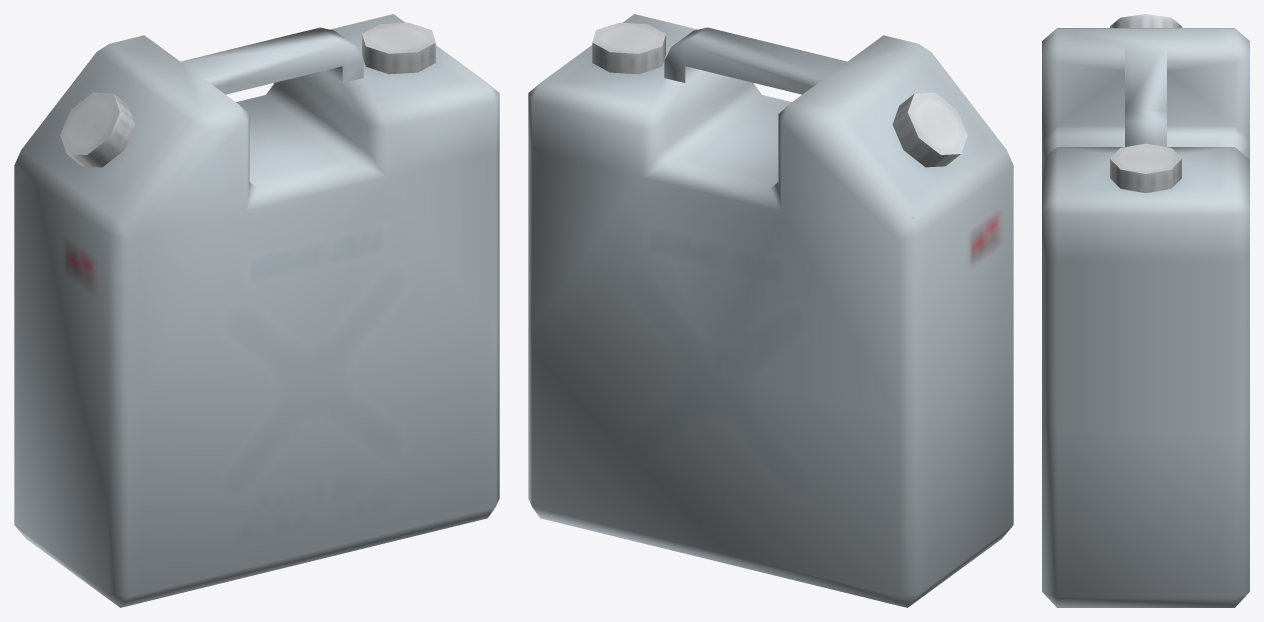
File: jsf_PolyTank_02.fbx
3 renders of one model, left to right at view 1: azimuth 30°, elevation 25°; view 2: azimuth 150°, elevation 25°; view 3: azimuth 270°, elevation 25°, orthographic. The views are drawn at different scales.
Parts seen in each view (by area): view 1: jsf_PolyTank_02; view 2: jsf_PolyTank_02; view 3: jsf_PolyTank_02.
Part boxes in pixels (left/top/right/bottom): jsf_PolyTank_02: left=14, top=14, right=499, bottom=607; jsf_PolyTank_02: left=528, top=14, right=1013, bottom=607; jsf_PolyTank_02: left=1042, top=14, right=1249, bottom=607.
Bounding box in the file's own units: 35.69 × 41.38 × 17.4.
